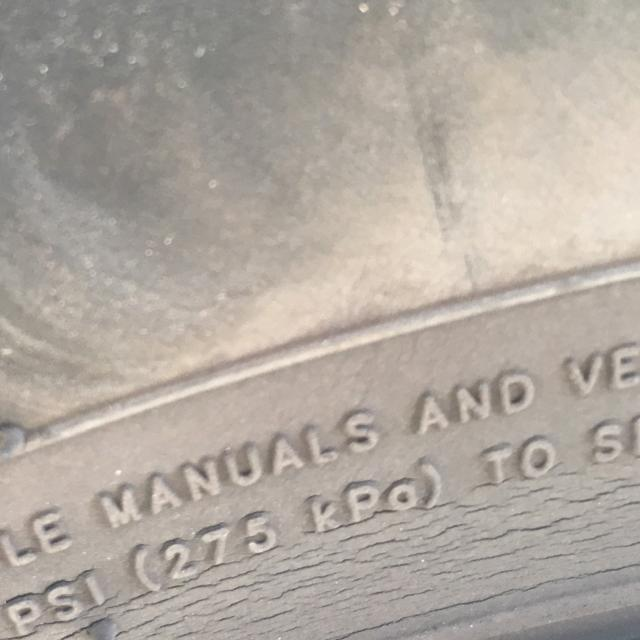Cracks: (0, 448, 640, 640)
Non-defective: (0, 0, 634, 415)
